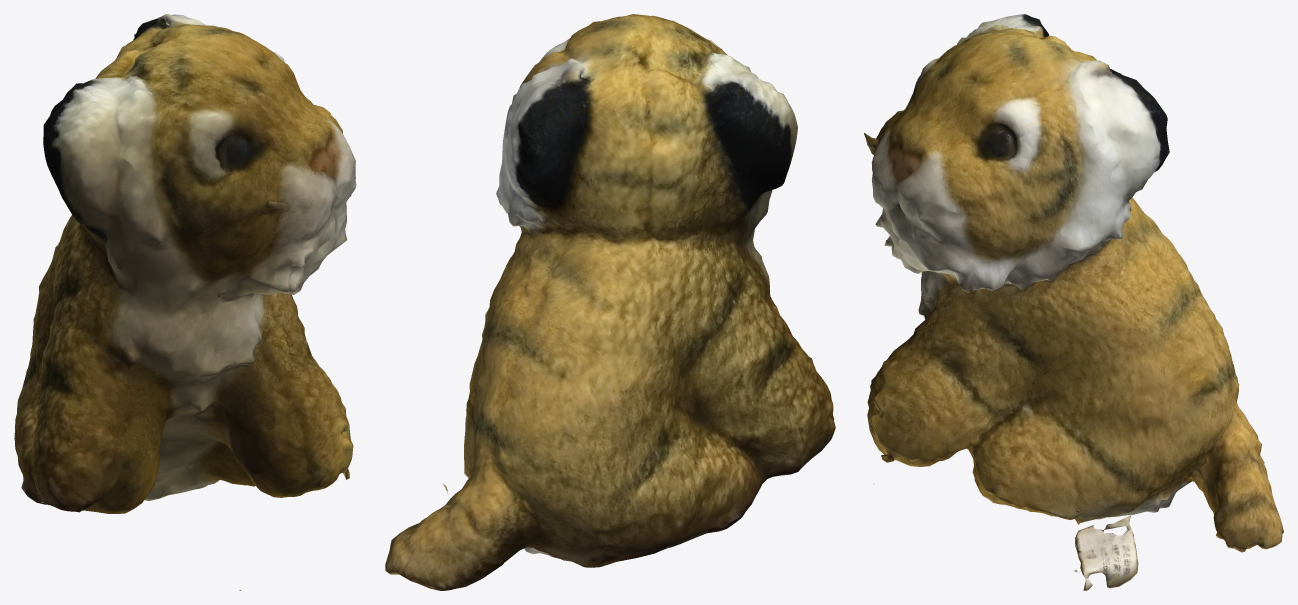
3 renders of one model, left to right at view 1: azimuth 30°, elevation 25°; view 2: azimuth 150°, elevation 25°; view 3: azimuth 270°, elevation 25°, orthographic. The views are drawn at different scales.
Parts seen in each view (by area): view 1: defaultobject; view 2: defaultobject; view 3: defaultobject.
Part boxes in pixels (bbox=[...]): defaultobject: bbox=[14, 14, 356, 590]; defaultobject: bbox=[385, 14, 835, 590]; defaultobject: bbox=[864, 14, 1283, 590].
Size of the model in its own units: 0.4283 by 0.6267 by 0.4881.
Materials: 1 (1 with a texture image).
